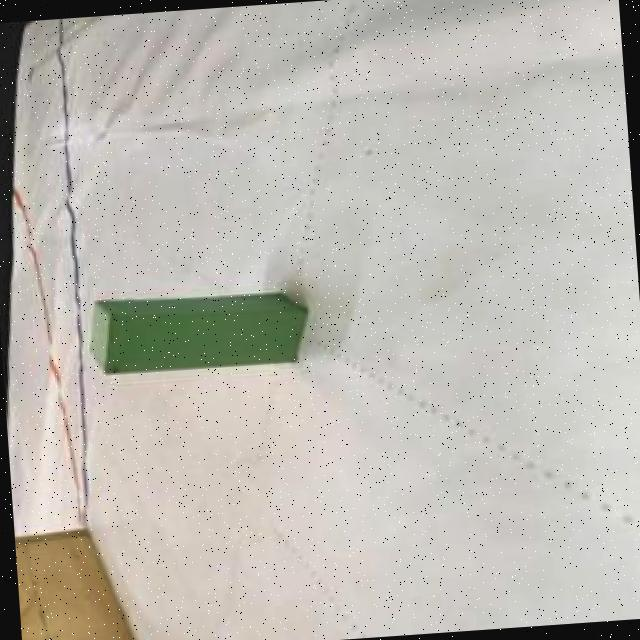greenbox: (86, 285, 310, 374)
